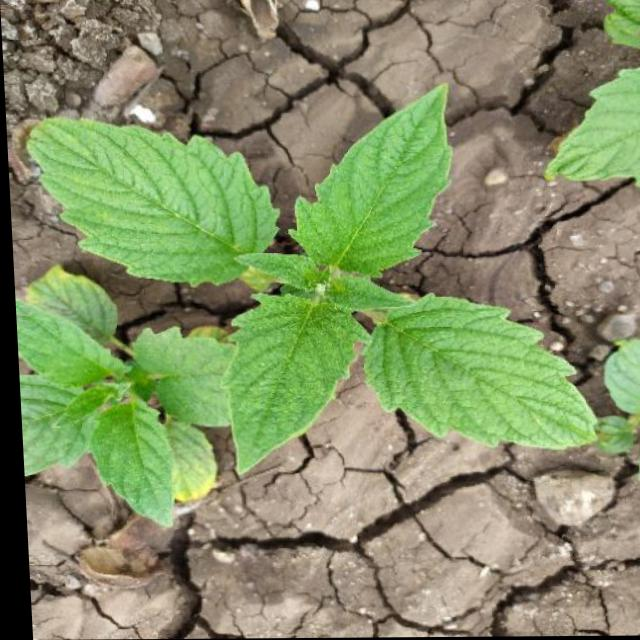crop: (31, 71, 613, 477), (22, 247, 302, 605)
